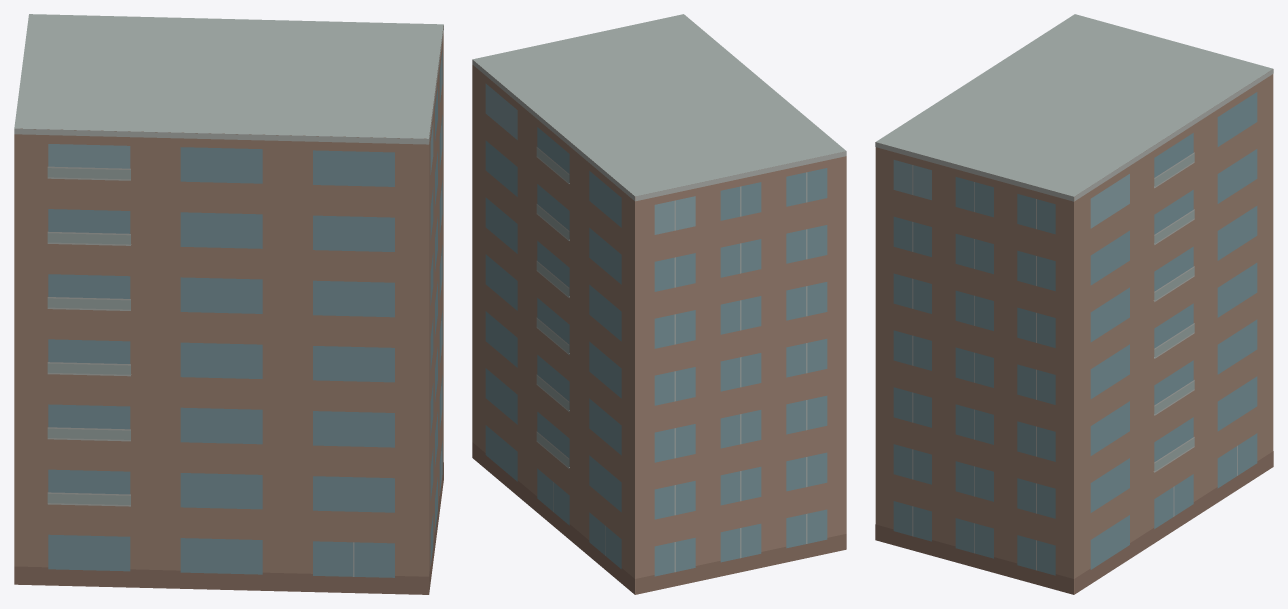
The model's file is survey-upis-33038441.glb.
3 views of the same model, side by side, from view 1: azimuth 30°, elevation 25°; view 2: azimuth 150°, elevation 25°; view 3: azimuth 270°, elevation 25° (orthographic). The views are drawn at different scales.
Parts seen in each view (by area): view 1: survey-upis-33038441.tmp; view 2: survey-upis-33038441.tmp; view 3: survey-upis-33038441.tmp.
Part boxes in pixels (<box>): survey-upis-33038441.tmp: <box>14,14,443,594</box>; survey-upis-33038441.tmp: <box>472,14,846,594</box>; survey-upis-33038441.tmp: <box>875,14,1273,594</box>.
Bounding box in the file's own units: 19.2 × 19.5 × 17.67.
